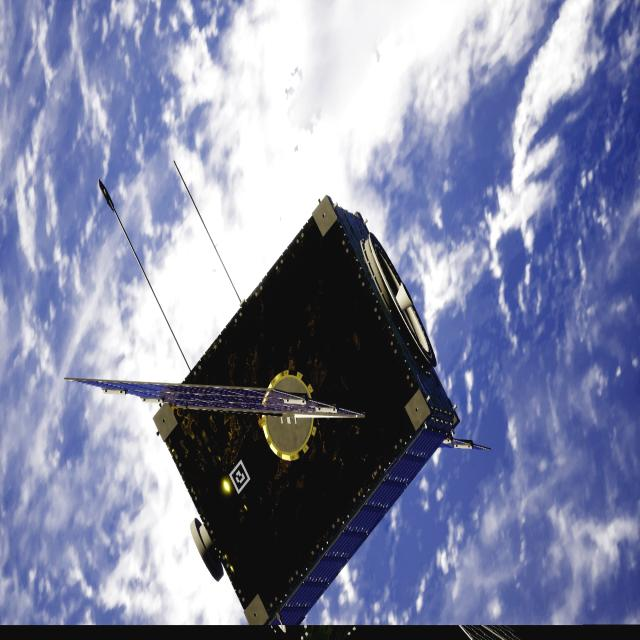satellite: (84, 198, 469, 628)
